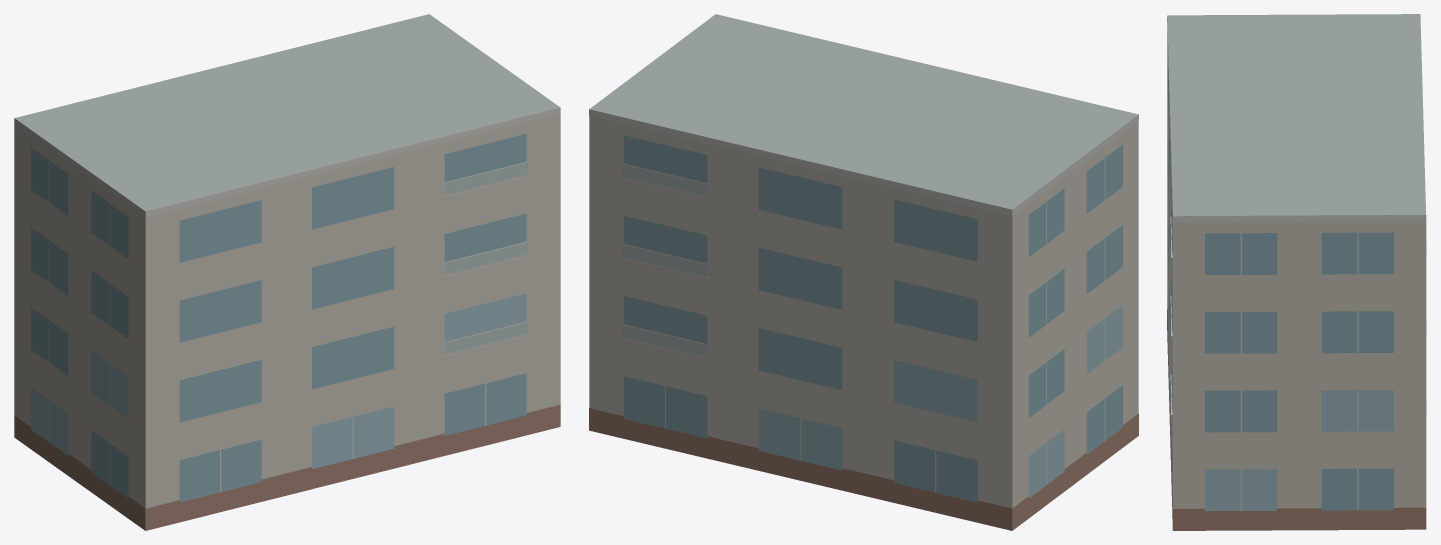
File: residential-9daf83b5-17f4-4c86-8f43-932de621253a.glb
3 renders of one model, left to right at view 1: azimuth 30°, elevation 25°; view 2: azimuth 150°, elevation 25°; view 3: azimuth 270°, elevation 25°, orthographic. The views are drawn at different scales.
Visible parts, largest first — view 1: residential-9daf83b5-17f4-4c86-8f43-932de621253a.tmp; view 2: residential-9daf83b5-17f4-4c86-8f43-932de621253a.tmp; view 3: residential-9daf83b5-17f4-4c86-8f43-932de621253a.tmp.
Part boxes in pixels (x1,y1,x2,y2): residential-9daf83b5-17f4-4c86-8f43-932de621253a.tmp: [14, 14, 560, 530]; residential-9daf83b5-17f4-4c86-8f43-932de621253a.tmp: [589, 14, 1138, 530]; residential-9daf83b5-17f4-4c86-8f43-932de621253a.tmp: [1167, 14, 1426, 530].
Bounding box in the file's own units: 16.82 × 12.2 × 9.12.
